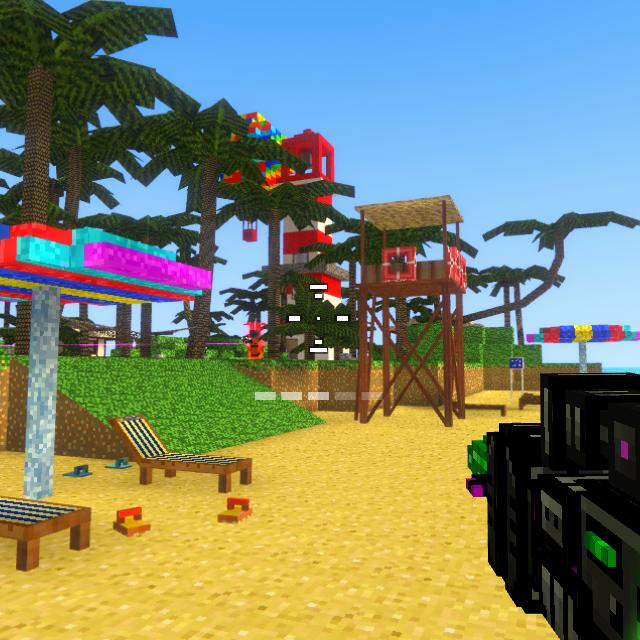Enemy: (245, 330, 263, 359)
